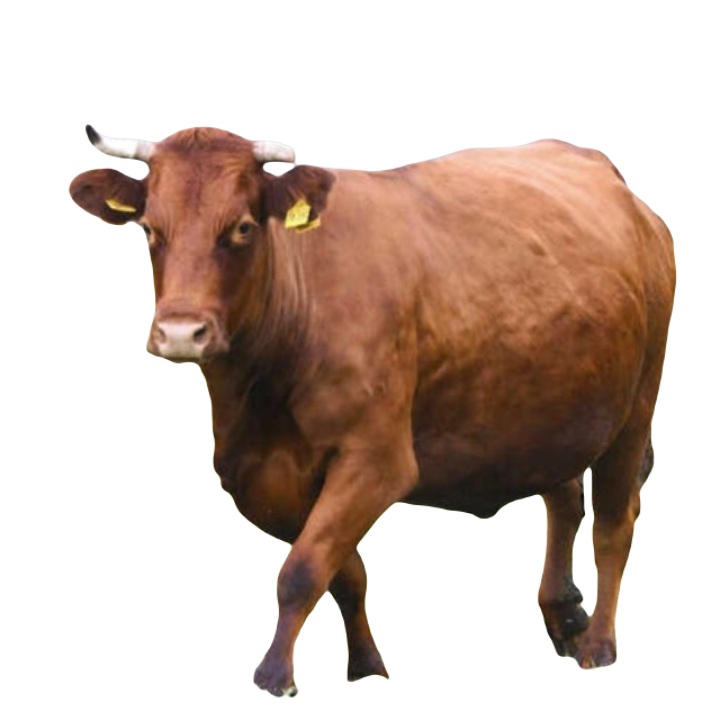Cow: (65, 126, 678, 698)
